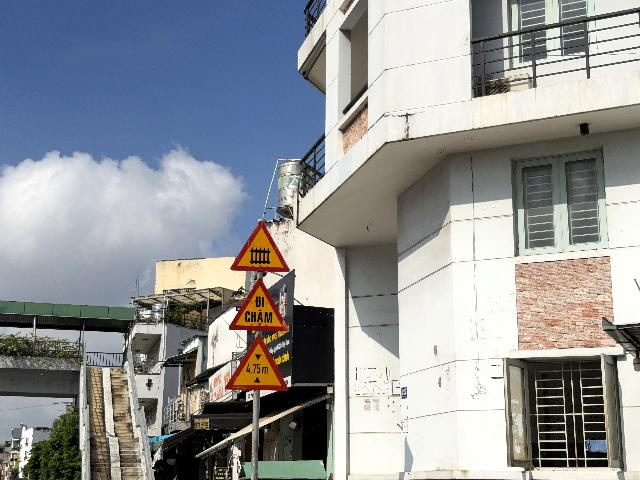chieu-cao-tinh-khong-thuc-te: (225, 334, 288, 391)
di-cham: (229, 278, 289, 331)
noi-giao-nhau-voi-duong-sat-co-rao-chan: (230, 220, 290, 272)
